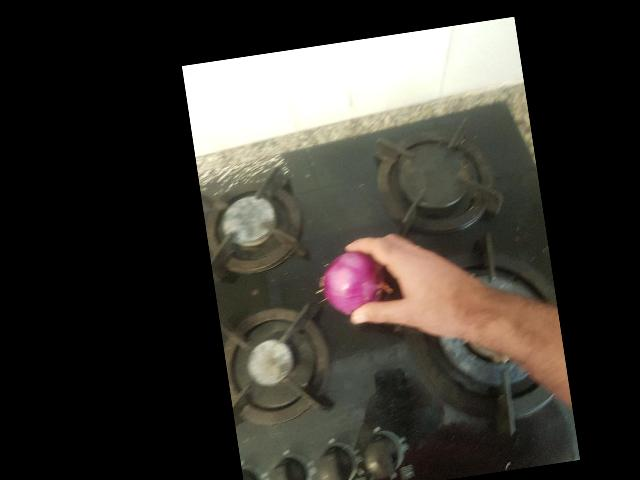onion: (263, 161, 328, 215)
